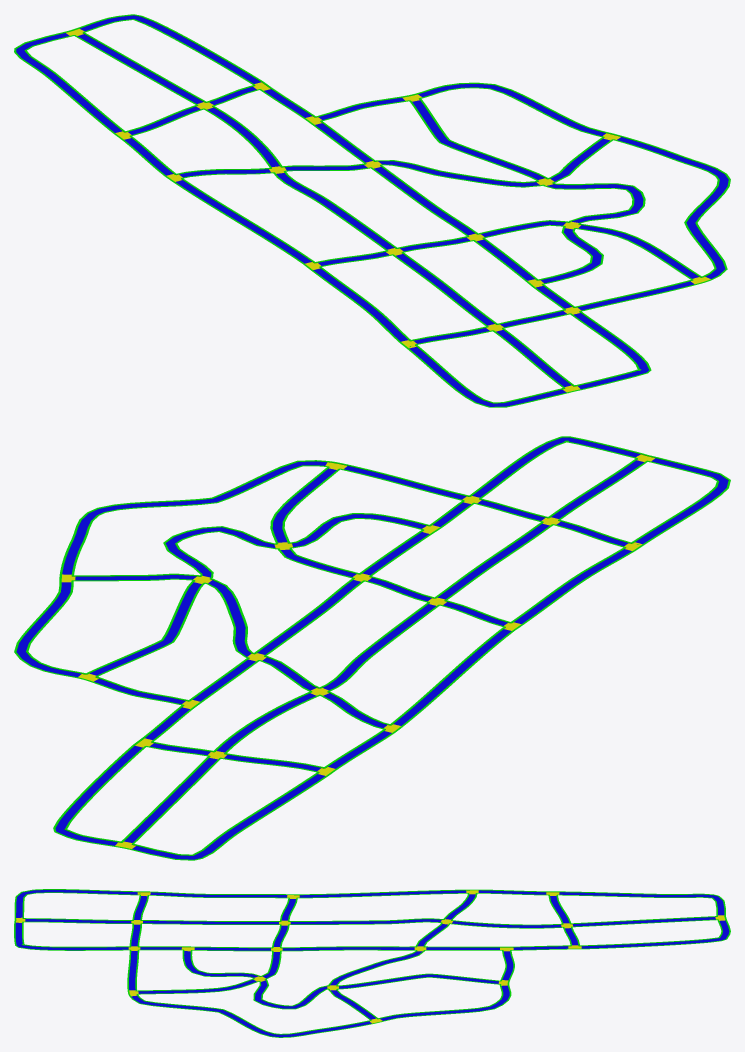
Rendered from Road_Brazil.fbx.
The picture shows the model from 3 angles, top to bottom: view 1: azimuth 30°, elevation 25°; view 2: azimuth 150°, elevation 25°; view 3: azimuth 270°, elevation 25°; orthographic projection. The views are drawn at different scales.
Parts seen in each view (by area): view 1: Road_Brazil; view 2: Road_Brazil; view 3: Road_Brazil.
Part boxes in pixels (box(x1,y1,x2,y2)): Road_Brazil: box(14, 14, 730, 407); Road_Brazil: box(14, 436, 730, 860); Road_Brazil: box(14, 889, 730, 1037).
Bounding box in the file's own units: 331 × 0.4907 × 673.
